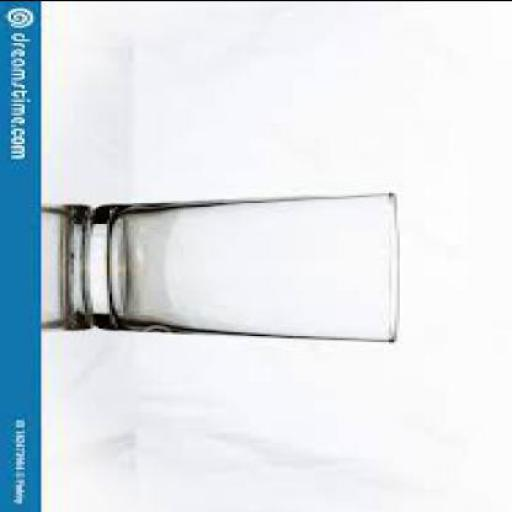glass: (71, 191, 400, 338)
